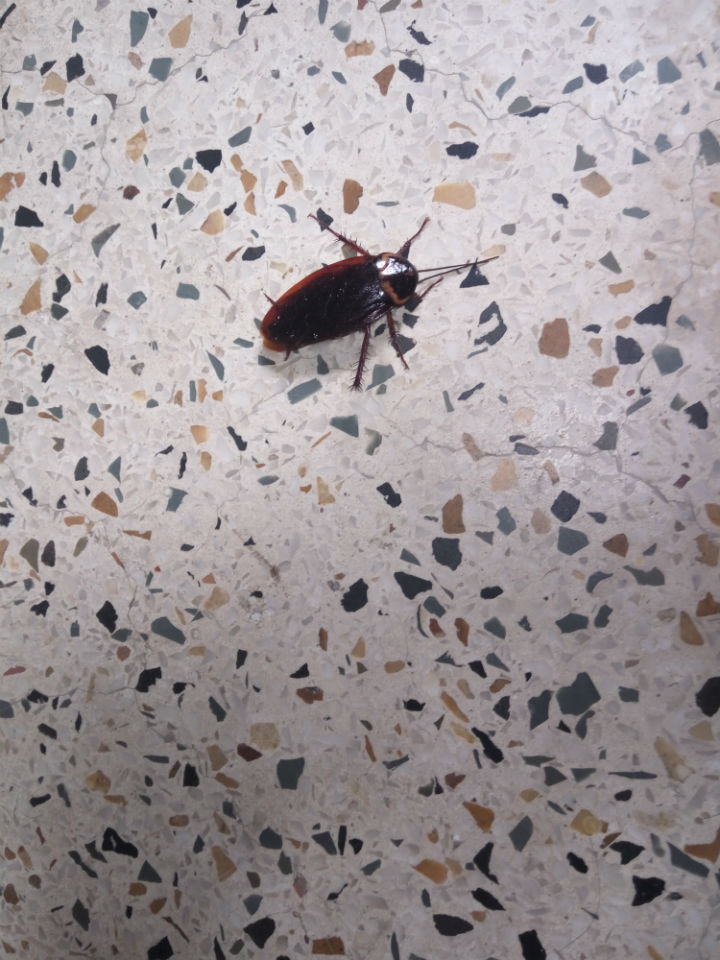cockroach: (177, 190, 558, 434)
